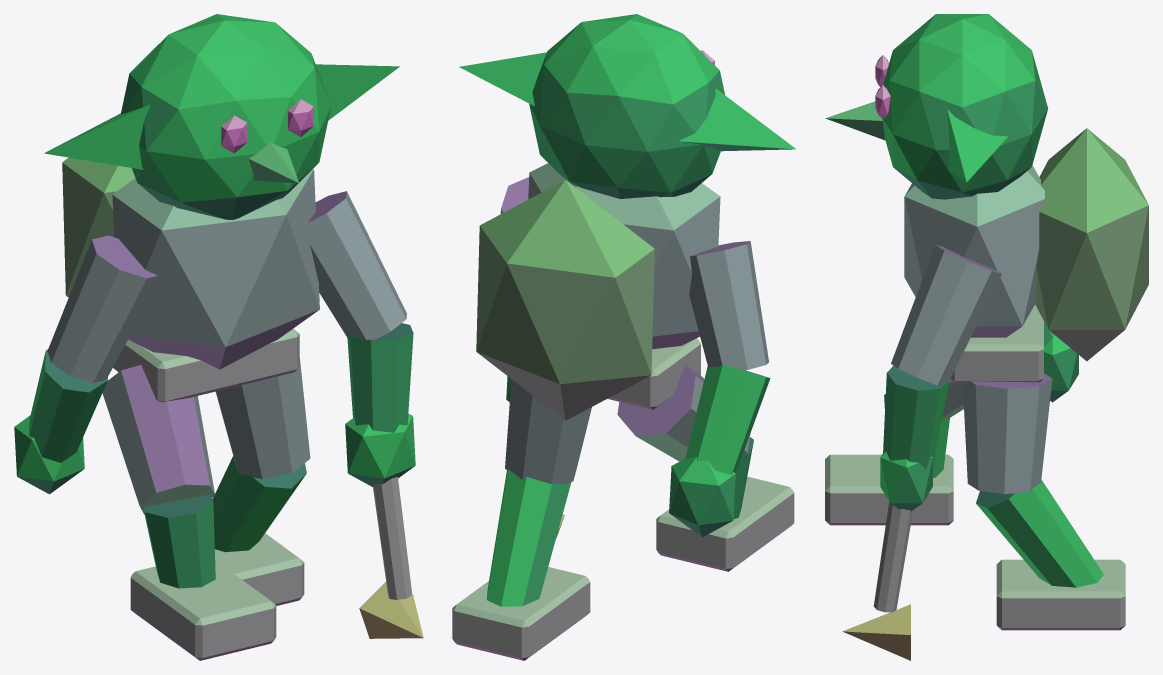
The model's file is creature_goblin_scavenger_passing_a_v01.glb.
3 views of the same model, side by side, from view 1: azimuth 30°, elevation 25°; view 2: azimuth 150°, elevation 25°; view 3: azimuth 270°, elevation 25° (orthographic). The views are drawn at different scales.
Visible parts, largest first — view 1: GEO_creature_goblin_scavenger_passing_a_v01; view 2: GEO_creature_goblin_scavenger_passing_a_v01; view 3: GEO_creature_goblin_scavenger_passing_a_v01.
Part boxes in pixels (left/top/right/bottom): GEO_creature_goblin_scavenger_passing_a_v01: left=14, top=14, right=423, bottom=660; GEO_creature_goblin_scavenger_passing_a_v01: left=452, top=14, right=795, bottom=660; GEO_creature_goblin_scavenger_passing_a_v01: left=825, top=14, right=1148, bottom=660.
Bounding box in the file's own units: 0.88 × 1.48 × 0.7546.
